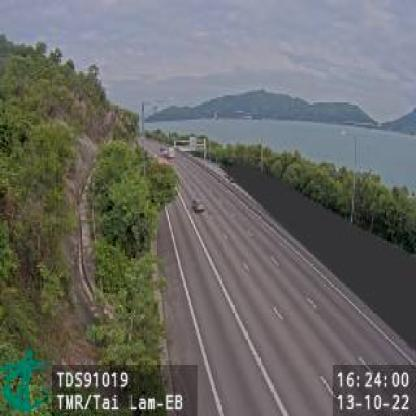Car: (192, 196, 206, 213)
